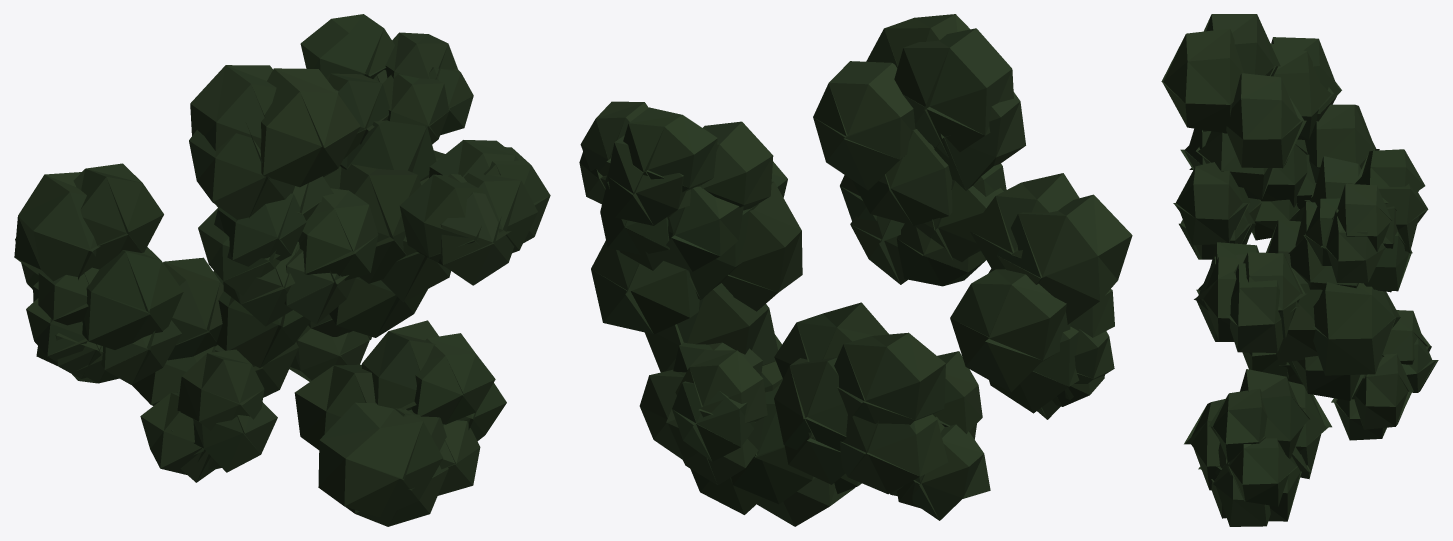
File: tree_m14_far.obj
3 views of the same model, side by side, from view 1: azimuth 30°, elevation 25°; view 2: azimuth 150°, elevation 25°; view 3: azimuth 270°, elevation 25° (orthographic). The views are drawn at different scales.
Bounding box in the file's own units: 1.67 × 1.57 × 0.9093.
Materials: 1 (1 with a texture image).
